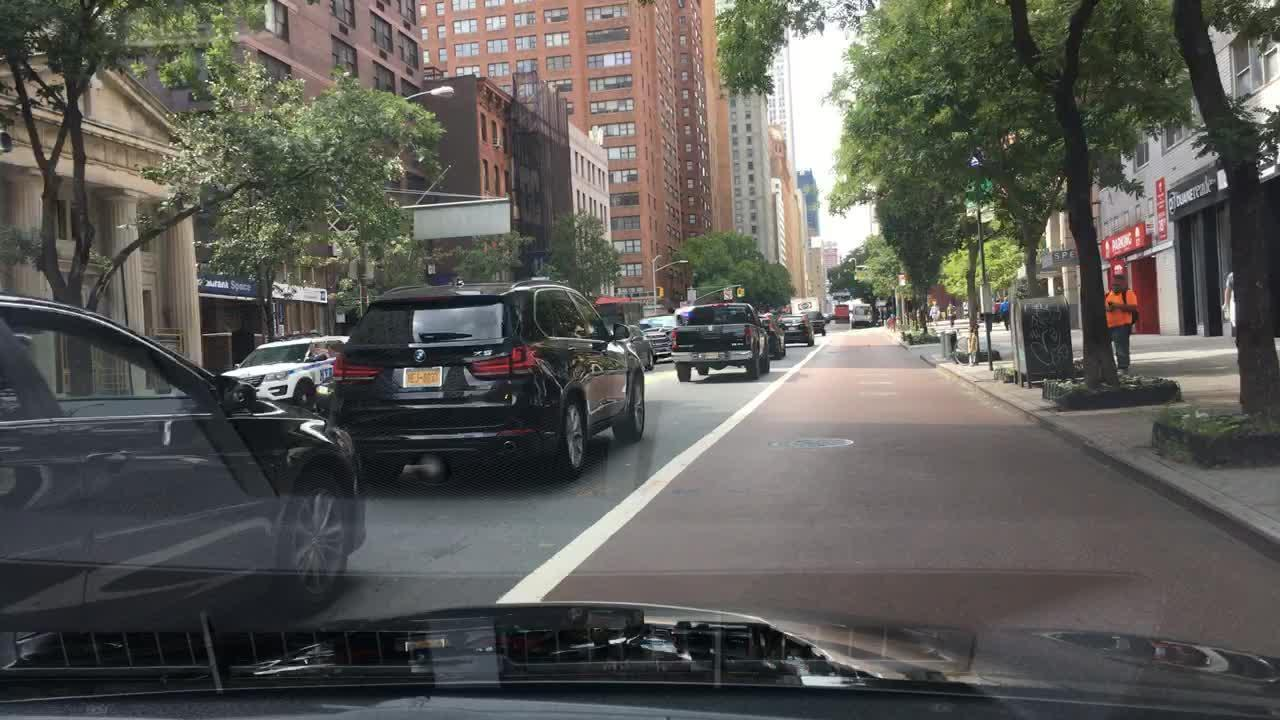bmw: (411, 346, 429, 365)
